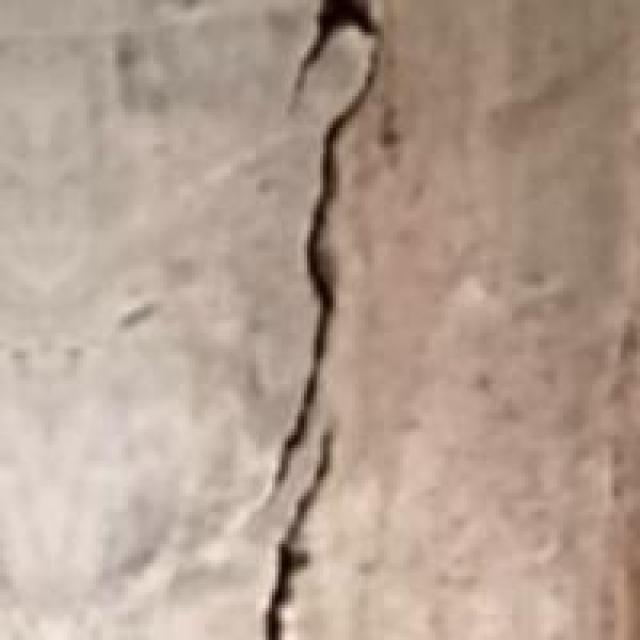Crack: (202, 3, 416, 637)
